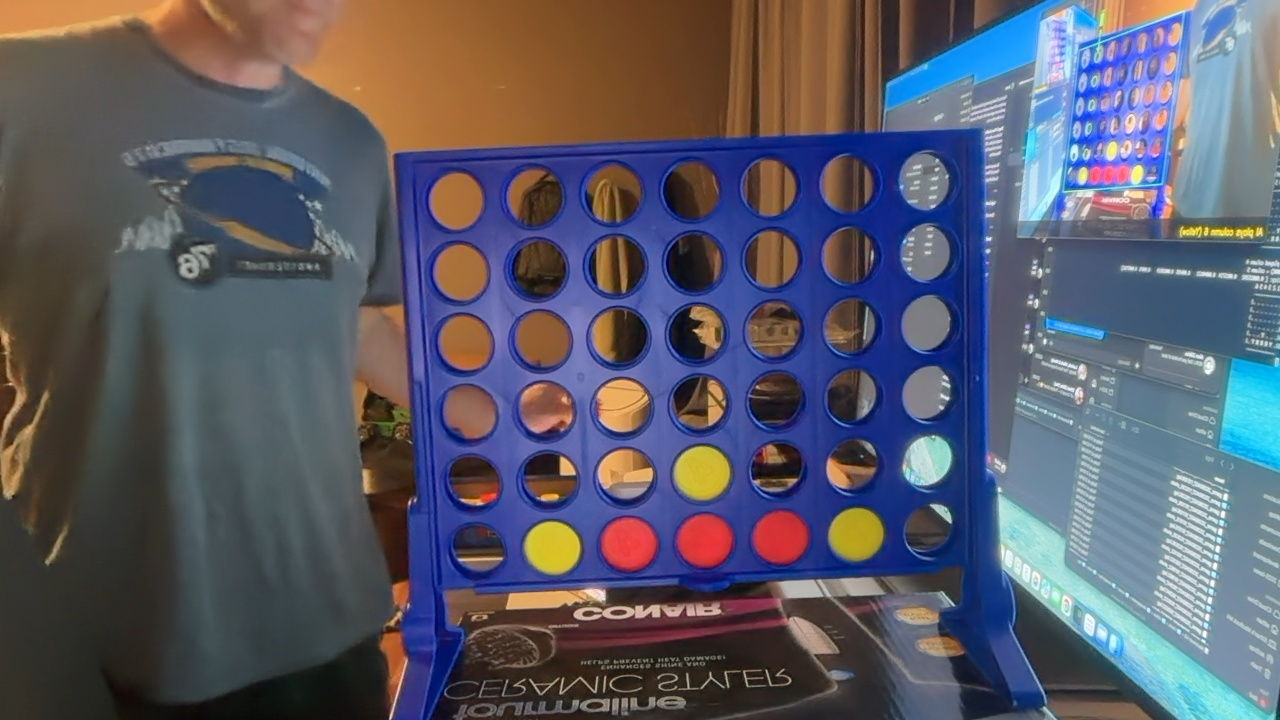red piece: (676, 513, 733, 569), (600, 517, 658, 572), (752, 510, 809, 565)
yellow piece: (673, 445, 731, 501), (523, 521, 582, 575), (828, 508, 884, 562)
